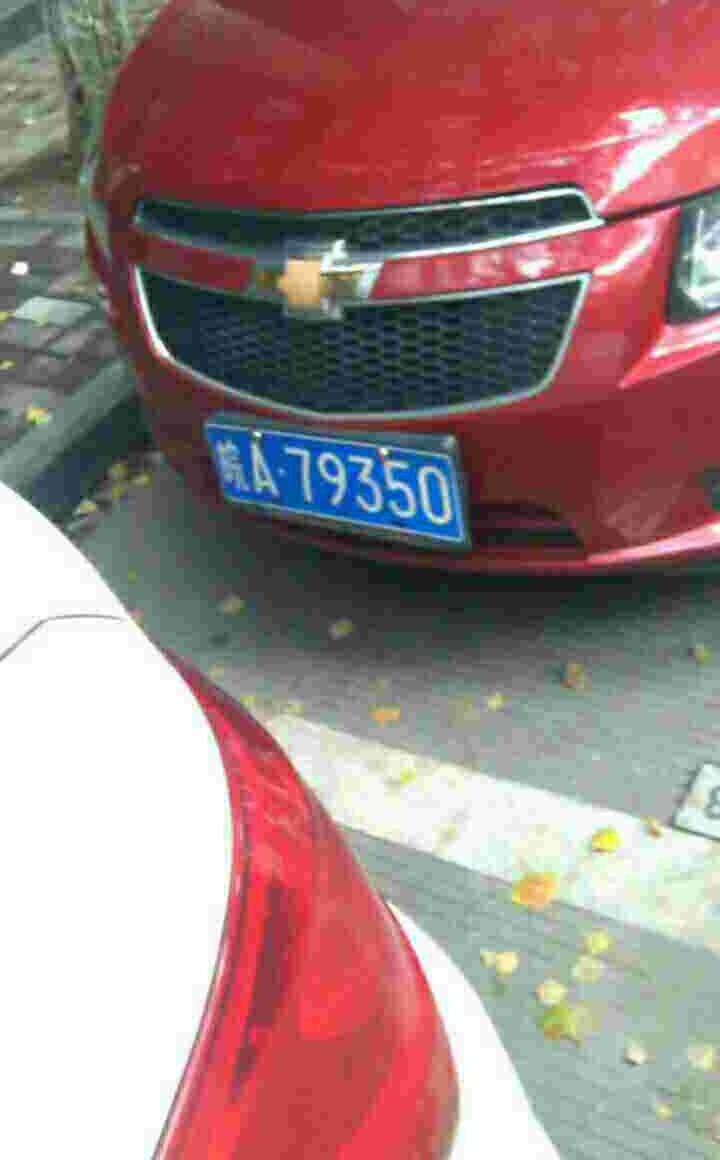license_plate: (206, 432, 476, 527)
